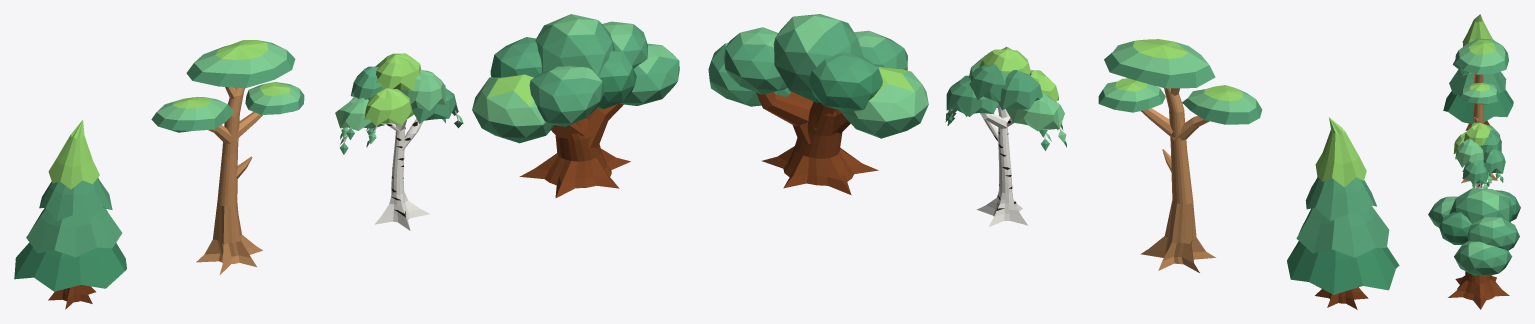
Rendered from ForestTrees.glb.
3 views of the same model, side by side, from view 1: azimuth 30°, elevation 25°; view 2: azimuth 150°, elevation 25°; view 3: azimuth 270°, elevation 25° (orthographic). The views are drawn at different scales.
Visible parts, largest first — view 1: Oak, ScotsPine, Spruce, SilverBirch; view 2: Oak, ScotsPine, Spruce, SilverBirch; view 3: Oak, ScotsPine, SilverBirch, Spruce.
Part boxes in pixels (box(x1,y1,x2,y2)): Oak: box(472, 14, 679, 197); ScotsPine: box(151, 40, 304, 274); Spruce: box(14, 120, 126, 309); SilverBirch: box(335, 53, 463, 230); Oak: box(708, 14, 928, 195); ScotsPine: box(1098, 39, 1262, 272); Spruce: box(1287, 117, 1399, 309); SilverBirch: box(945, 46, 1066, 226); Oak: box(1428, 188, 1520, 309); ScotsPine: box(1453, 38, 1508, 183); SilverBirch: box(1453, 122, 1505, 188); Spruce: box(1443, 14, 1513, 130).
Size of the model in its own units: 17.46 by 5.32 by 3.21.
Materials: 1 (1 with a texture image).
